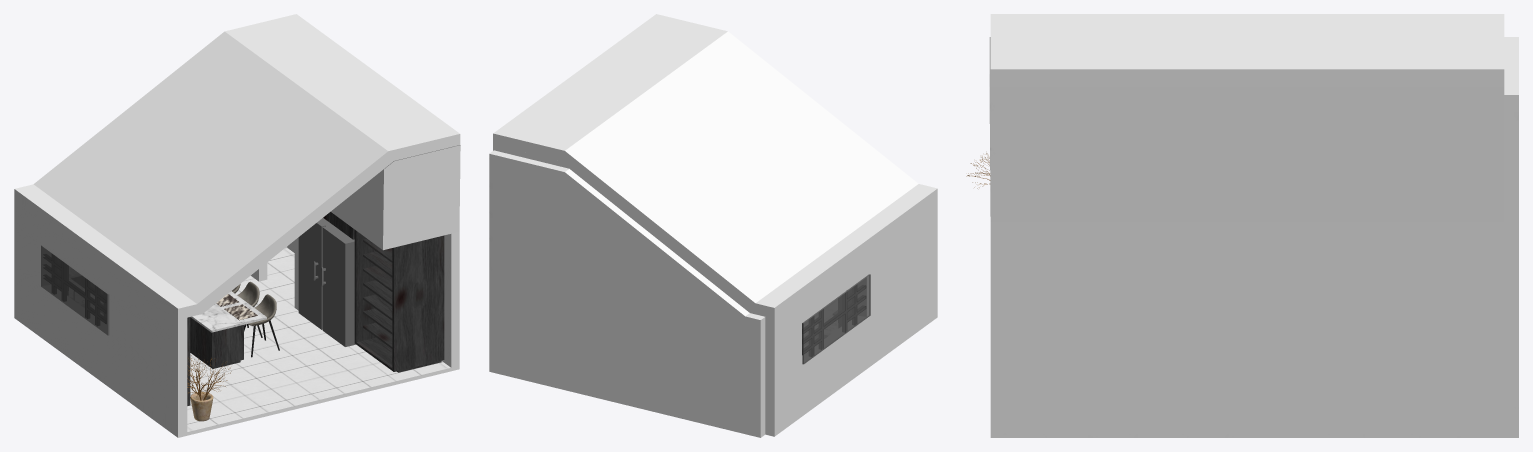
Rendered from kitchen.gltf.
3 views of the same model, side by side, from view 1: azimuth 30°, elevation 25°; view 2: azimuth 150°, elevation 25°; view 3: azimuth 270°, elevation 25° (orthographic). The views are drawn at different scales.
Visible parts, largest first — view 1: Cube.012, Cube.014, Cube.011, Cube.027, Cube, Cube.038, Cube.036, Cube.037, Cube.052, Cube.015, Cube.018, Cube.019 (+6 smaller); view 2: Cube.012, Cube.013, Cube.014, Cube.037, Cube.026, Cube; view 3: Cube.015, Cube, Cube.012, Cube.013, Cube.011.
Boxes of the visible parts, x1,y1,x2,y2 form: Cube.012: (14,14,460,319); Cube.014: (14,200,187,437); Cube.011: (187,248,459,435); Cube.027: (354,230,444,372); Cube: (330,145,460,250); Cube.038: (298,218,355,346); Cube.036: (358,232,391,366); Cube.037: (41,245,109,335); Cube.052: (363,239,392,348); Cube.015: (287,231,459,367); Cube.018: (190,317,243,368); Cube.019: (190,291,266,332); Cube.012: (493,14,937,318); Cube.013: (489,150,765,437); Cube.014: (765,200,937,436); Cube.037: (802,274,870,364); Cube.026: (802,285,865,356); Cube: (493,144,568,168); Cube.015: (990,222,1505,432); Cube: (989,37,1504,222); Cube.012: (990,14,1504,86); Cube.013: (1504,37,1518,437); Cube.011: (990,432,1504,437).
Size of the model in its own units: 1096 by 870 by 1180.
Materials: 15 (15 with a texture image).
